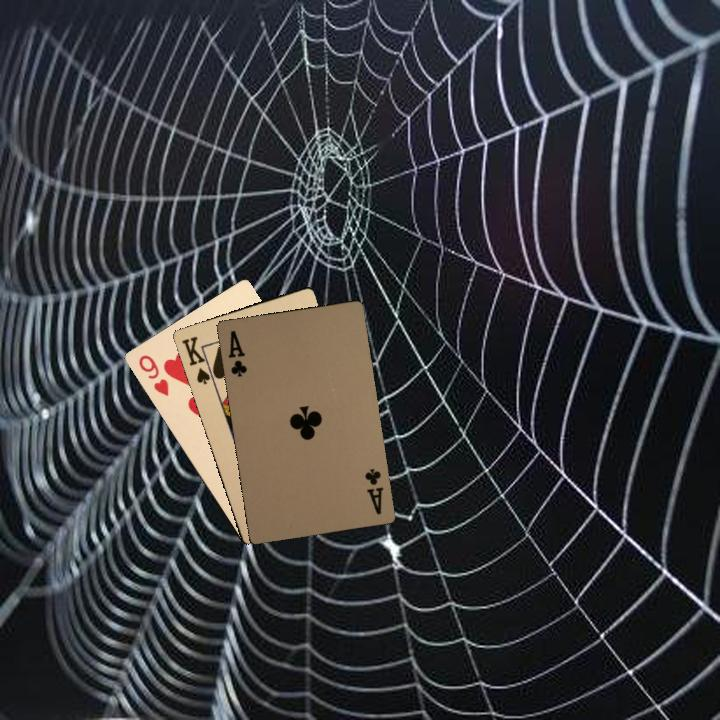9h: (134, 351, 171, 399)
Ac: (224, 326, 249, 379), (361, 465, 386, 517)
Ks: (178, 332, 216, 386)
